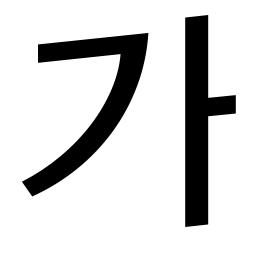Gaji: (170, 86, 226, 133)
